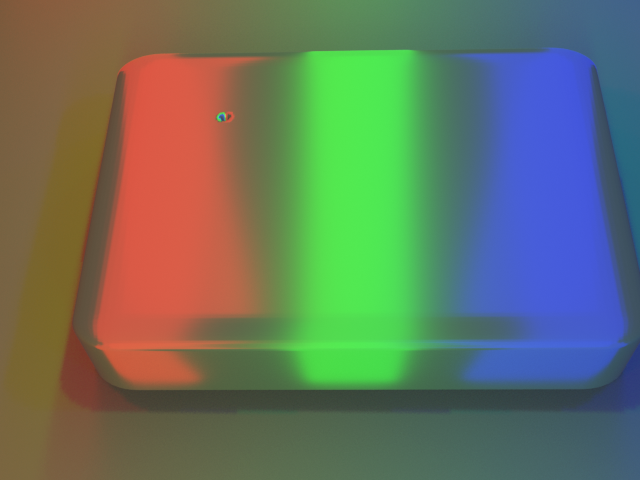dent: (197, 87, 234, 133)
